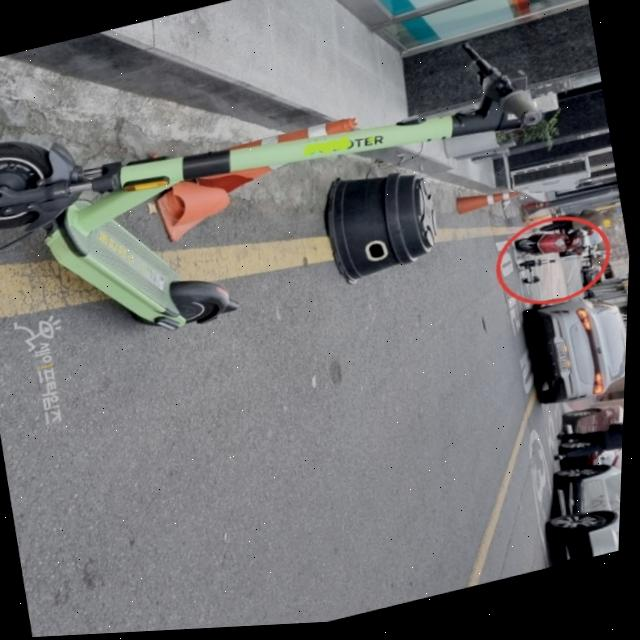kickboard_no: (0, 95, 191, 398)
